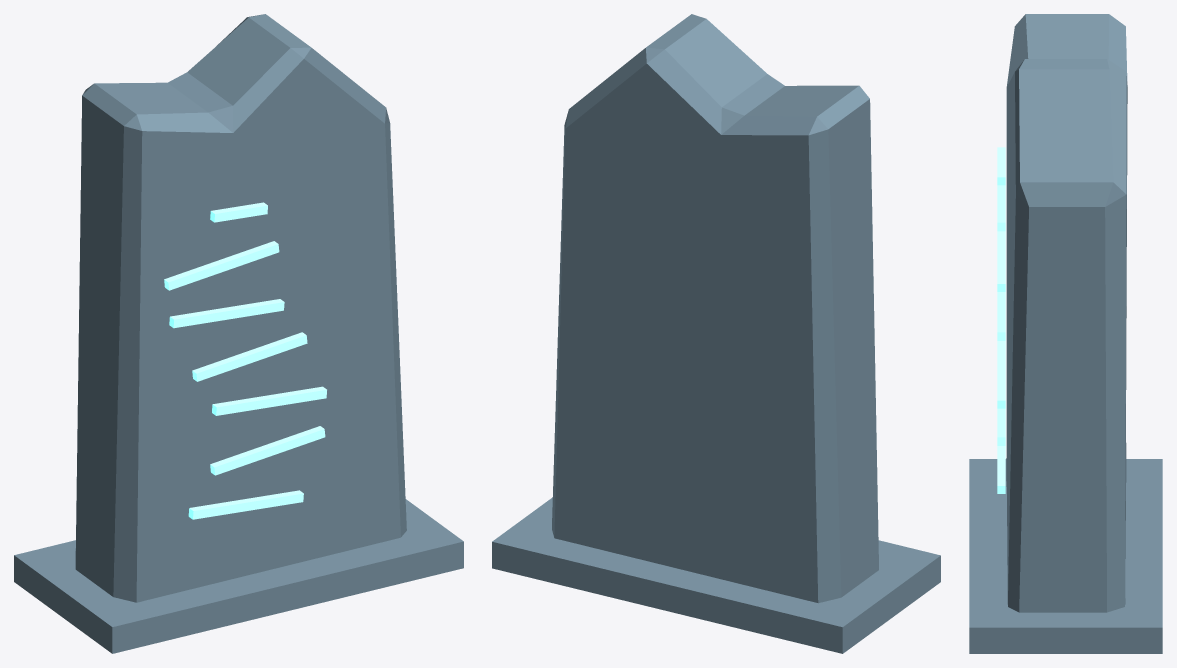
File: stone_tablet.glb
3 views of the same model, side by side, from view 1: azimuth 30°, elevation 25°; view 2: azimuth 150°, elevation 25°; view 3: azimuth 270°, elevation 25° (orthographic).
Visible parts, largest first — view 1: Ancient fractured tablet, Sunken plinth, Checksum groove 3, Checksum groove 1, Checksum groove 5, Checksum groove 4, Checksum groove 0, Checksum groove 2, Checksum groove 6; view 2: Ancient fractured tablet, Sunken plinth; view 3: Ancient fractured tablet, Sunken plinth, Checksum groove 2, Checksum groove 4, Checksum groove 3, Checksum groove 0, Checksum groove 5, Checksum groove 6, Checksum groove 1.
Boxes of the visible parts, x1,y1,x2,y2 form: Ancient fractured tablet: [75, 14, 406, 602]; Sunken plinth: [14, 499, 463, 653]; Checksum groove 3: [192, 332, 307, 381]; Checksum groove 1: [210, 426, 325, 475]; Checksum groove 5: [164, 241, 279, 290]; Checksum groove 4: [169, 299, 284, 328]; Checksum groove 0: [188, 490, 303, 519]; Checksum groove 2: [212, 386, 326, 415]; Checksum groove 6: [210, 202, 267, 222]; Ancient fractured tablet: [552, 14, 878, 603]; Sunken plinth: [492, 497, 940, 653]; Ancient fractured tablet: [1006, 14, 1127, 612]; Sunken plinth: [969, 459, 1162, 653]; Checksum groove 2: [997, 341, 1005, 408]; Checksum groove 4: [997, 231, 1005, 291]; Checksum groove 3: [997, 292, 1005, 340]; Checksum groove 0: [997, 446, 1005, 493]; Checksum groove 5: [997, 185, 1005, 231]; Checksum groove 6: [997, 147, 1005, 185]; Checksum groove 1: [997, 408, 1005, 445].
Size of the model in its own units: 1.65 by 2.4 by 0.8.
